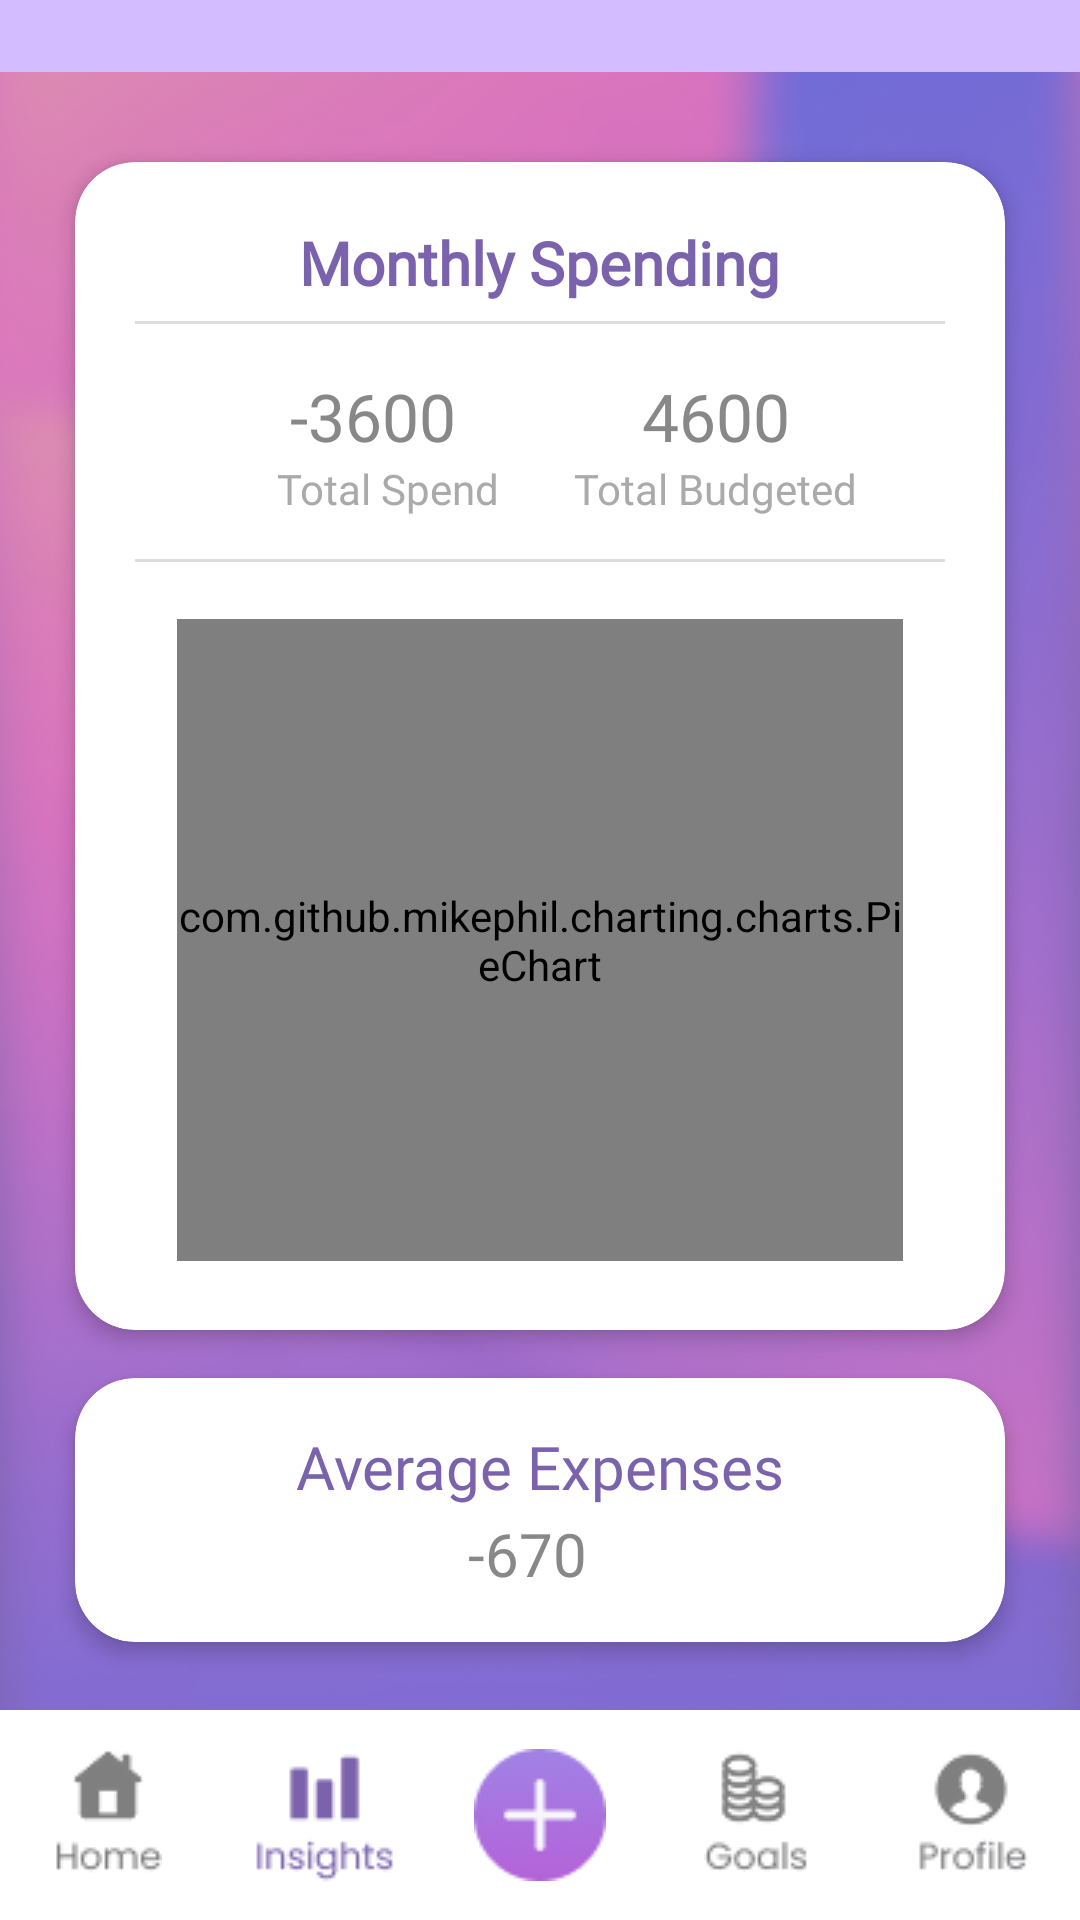

Locate icon controls on the screen. Image size 1080*1920, boxes as [x1,y1,x2,y2].
Add: [474,1749,606,1881]
